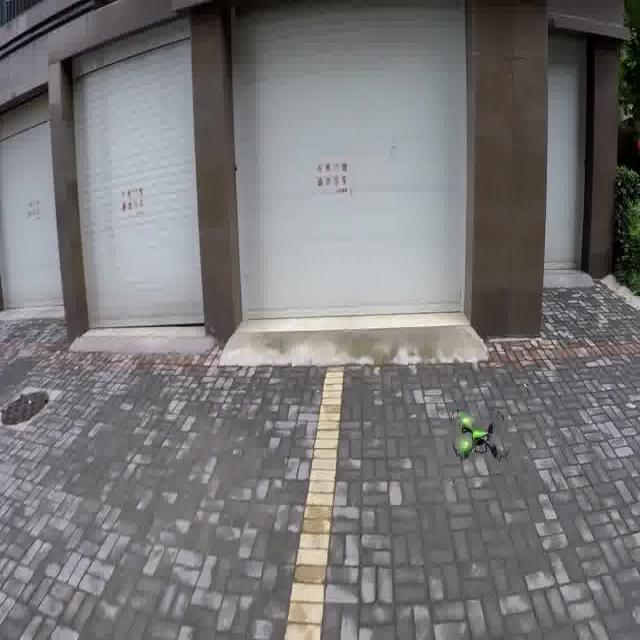drone: (450, 404, 518, 469)
